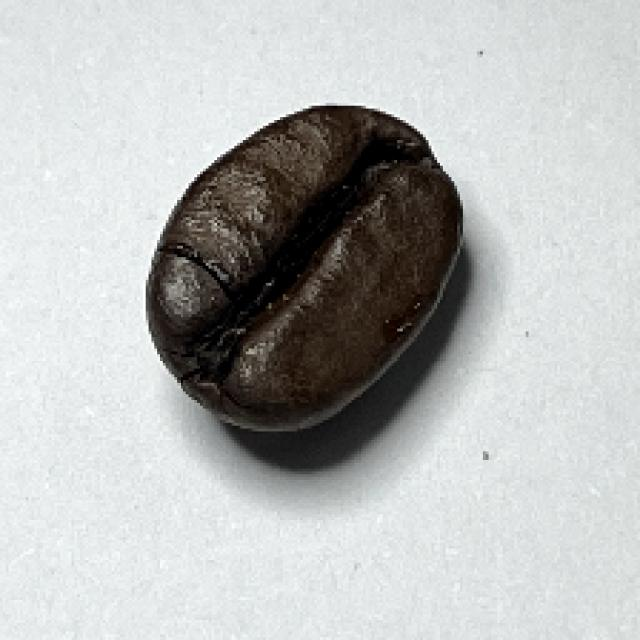bean: (142, 103, 463, 434)
